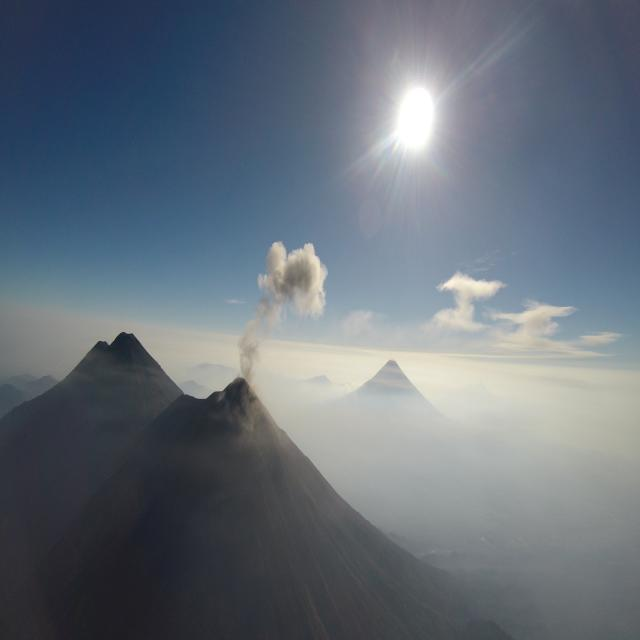Plume: (236, 230, 332, 381)
Summit: (150, 376, 271, 432)
